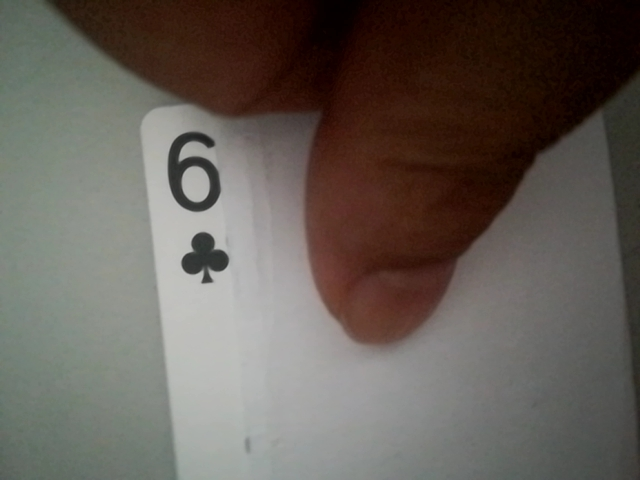mh 6: (155, 126, 243, 287)
